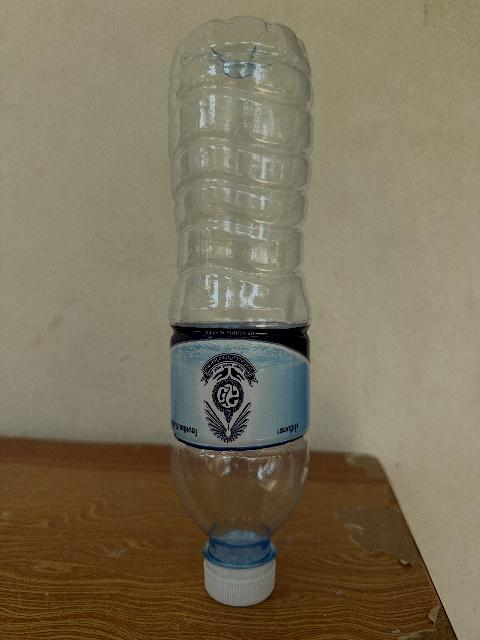bottle: (169, 17, 312, 605)
